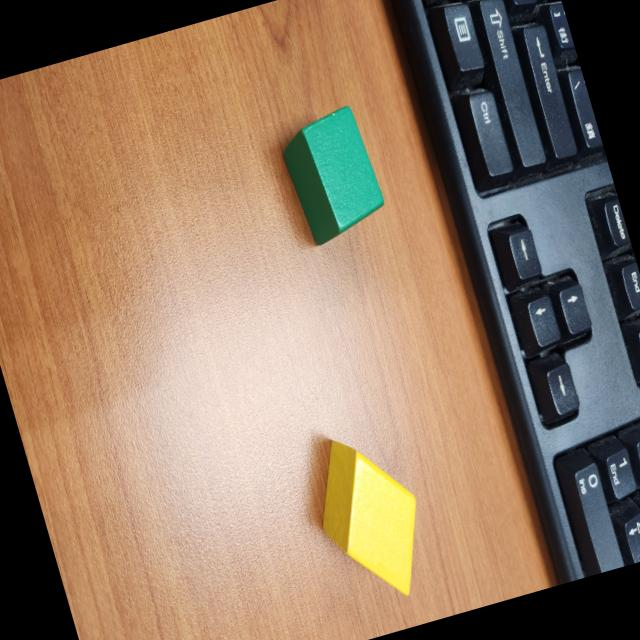green: (271, 100, 393, 250)
yellow: (298, 424, 440, 616)
